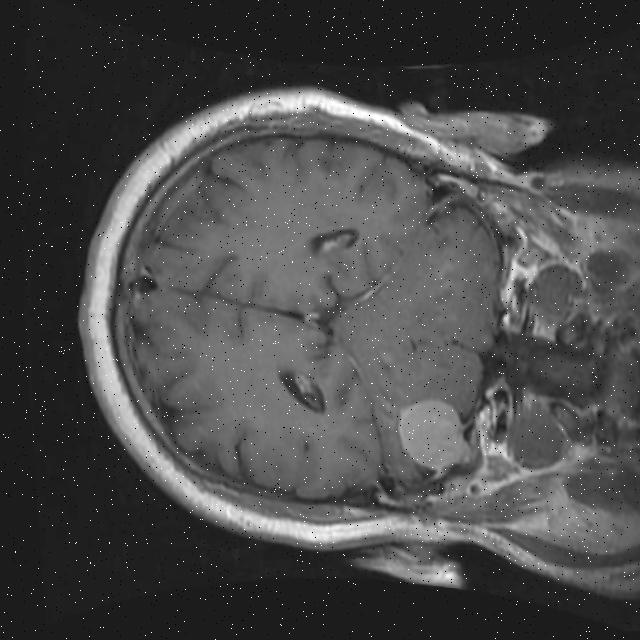Meningioma: (393, 394, 478, 473)
